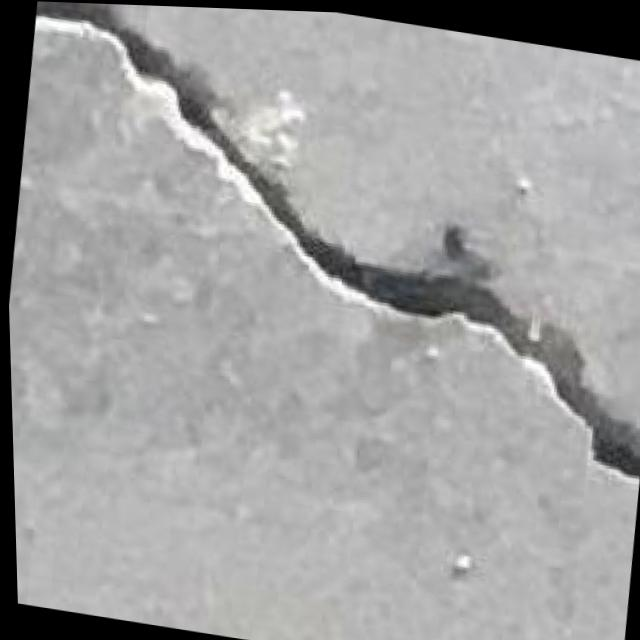Crack: (0, 0, 640, 474)
